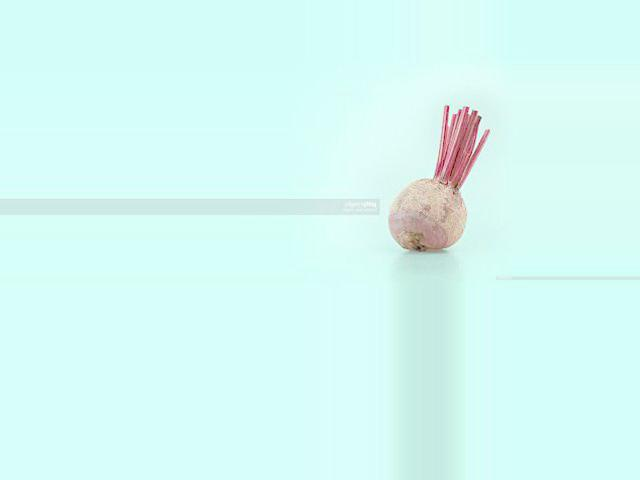beet: (387, 105, 489, 251)
